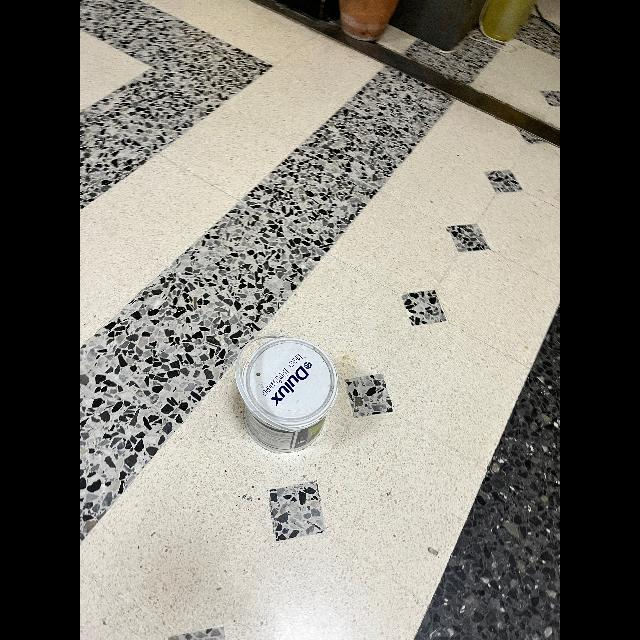paint_bucket: (230, 327, 354, 457)
